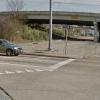Bridge: (3, 5, 98, 38)
